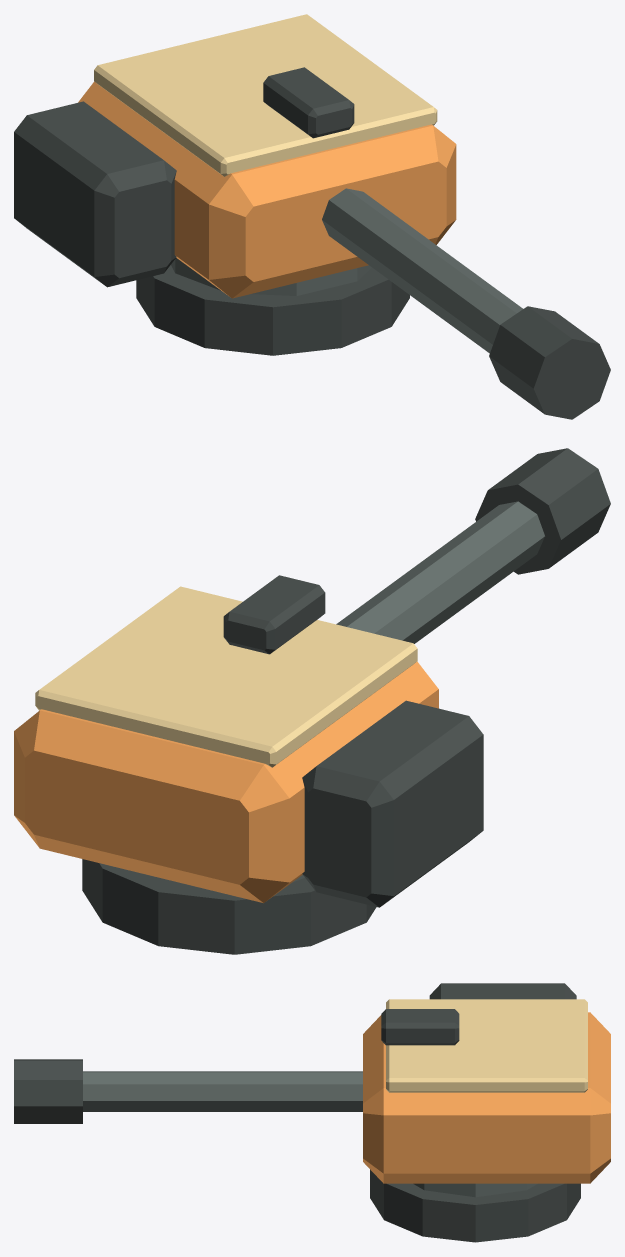
File: removable-turret.gltf
The picture shows the model from 3 angles, top to bottom: view 1: azimuth 30°, elevation 25°; view 2: azimuth 150°, elevation 25°; view 3: azimuth 270°, elevation 25°; orthographic projection. The views are drawn at different scales.
Visible parts, largest first — view 1: Бронекожух, Верхняя панель, Боезапас, Основание крепления, Ствол, Дульный тормоз, Прицел, Поворотная платформа; view 2: Бронекожух, Верхняя панель, Боезапас, Основание крепления, Ствол, Дульный тормоз, Прицел; view 3: Бронекожух, Верхняя панель, Ствол, Основание крепления, Дульный тормоз, Прицел, Боезапас, Поворотная платформа.
Part boxes in pixels (x1,y1,x2,y2): Бронекожух: (78,81,456,298); Верхняя панель: (94,14,437,176); Боезапас: (14,101,176,287); Основание крепления: (136,265,409,355); Ствол: (322,188,522,353); Дульный тормоз: (489,306,610,419); Прицел: (263,67,354,138); Поворотная платформа: (171,258,371,295); Бронекожух: (14,661,438,903); Верхняя панель: (35,586,417,767); Боезапас: (302,700,483,907); Основание крепления: (82,859,376,954); Ствол: (336,501,544,643); Дульный тормоз: (475,448,610,574); Прицел: (223,575,325,654); Бронекожух: (363,1012,610,1183); Верхняя панель: (386,999,587,1092); Ствол: (83,1071,362,1111); Основание крепления: (370,1169,580,1242); Дульный тормоз: (14,1059,82,1123); Прицел: (381,1009,459,1045); Боезапас: (429,983,576,999); Поворотная платформа: (413,1183,537,1197).
Size of the model in its own units: 0.63 by 0.4375 by 1.3.
